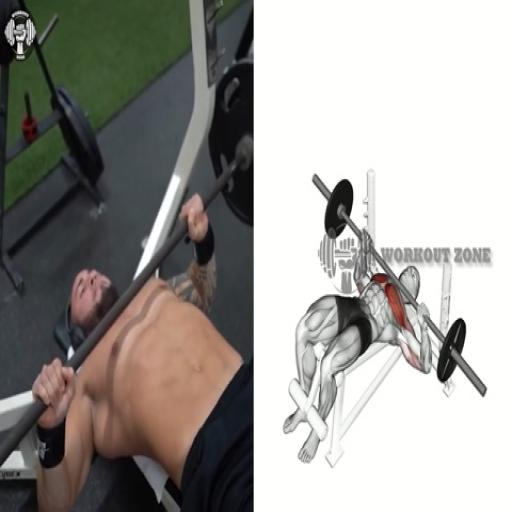exercise: (30, 190, 253, 510), (282, 234, 434, 466)
